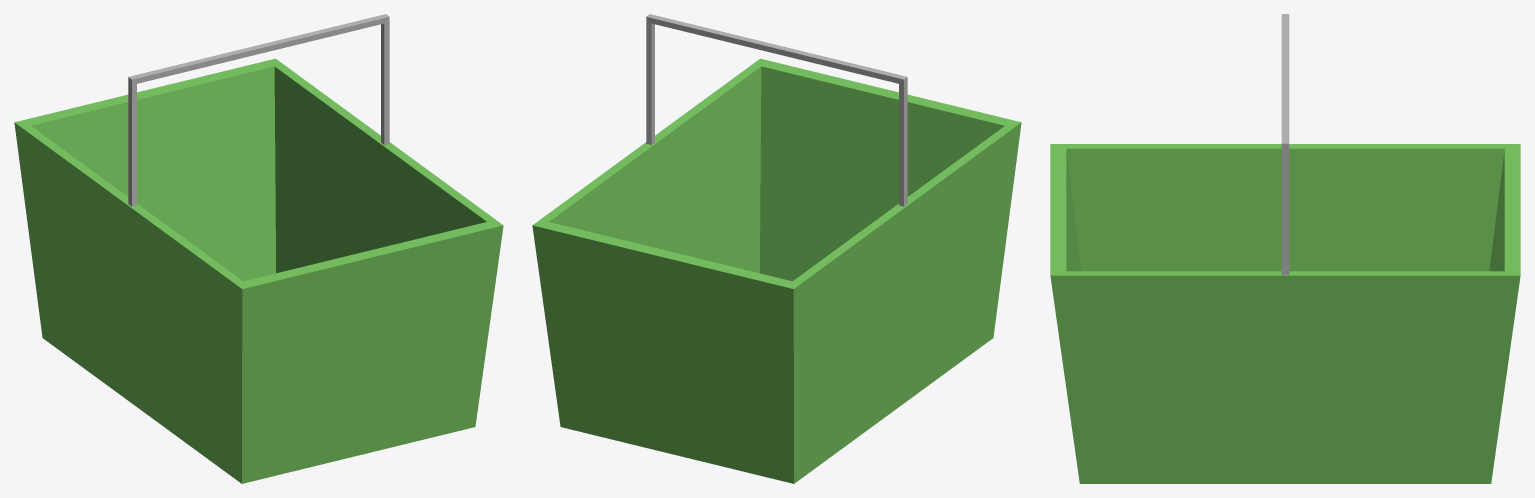
Rendered from basket.fbx.
3 views of the same model, side by side, from view 1: azimuth 30°, elevation 25°; view 2: azimuth 150°, elevation 25°; view 3: azimuth 270°, elevation 25° (orthographic). The views are drawn at different scales.
Parts seen in each view (by area): view 1: Cube; view 2: Cube; view 3: Cube.
Boxes of the visible parts, left/top/right/bottom form: Cube: left=14, top=14, right=503, bottom=483; Cube: left=532, top=14, right=1021, bottom=483; Cube: left=1050, top=14, right=1520, bottom=483.
Bounding box in the file's own units: 2.24 × 2.75 × 3.38.
